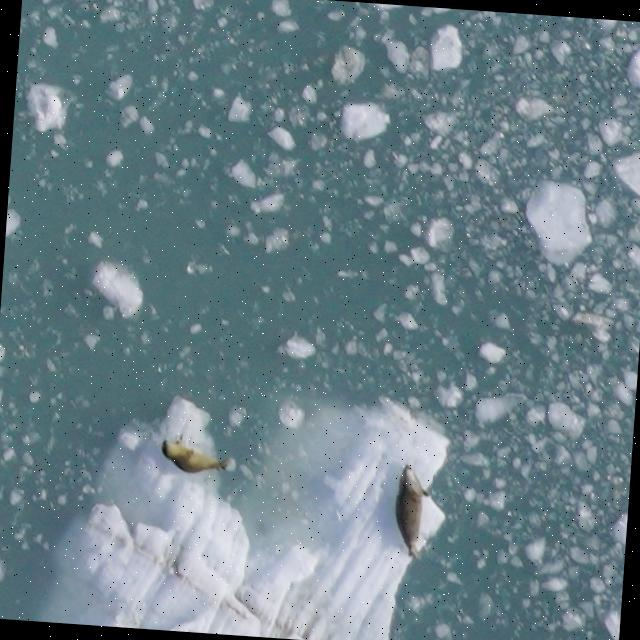seal: (385, 455, 434, 564), (154, 430, 239, 479)
